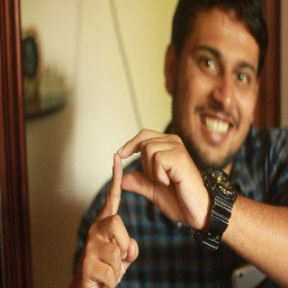P: (77, 123, 199, 288)
